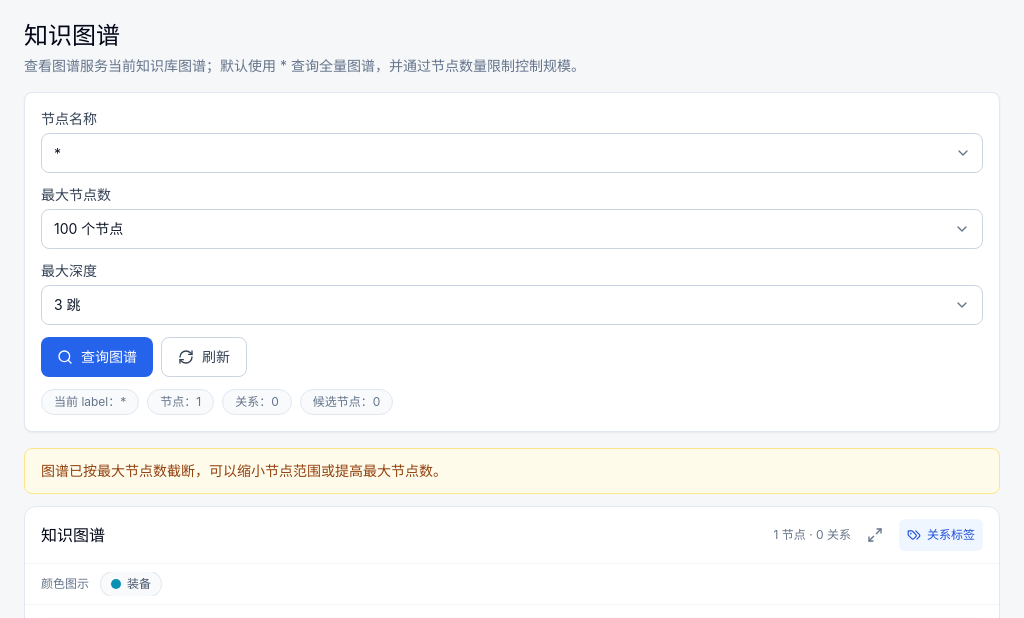
Test: KnowledgeGraphPage › shows searchable node suggestions that can be selected
Replace the text in the dropdown labelled "节点名称" with "09": (512,153) [41, 133, 983, 173]
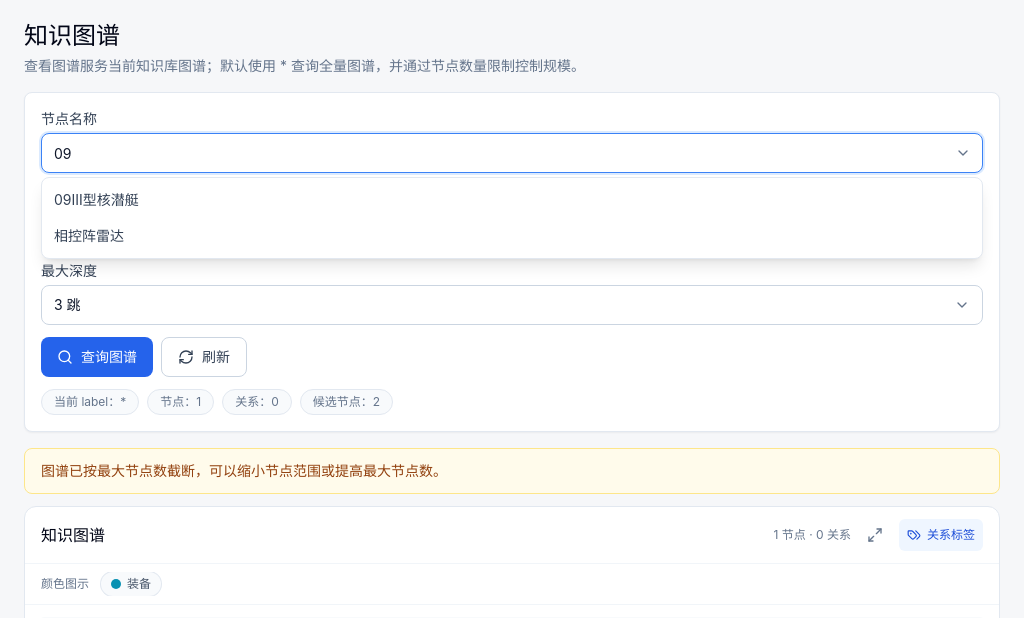
Now the list named "节点候选" is shown, box [42, 182, 982, 254]
Click the option "09III型核潜艇": (96,200) [42, 182, 982, 218]
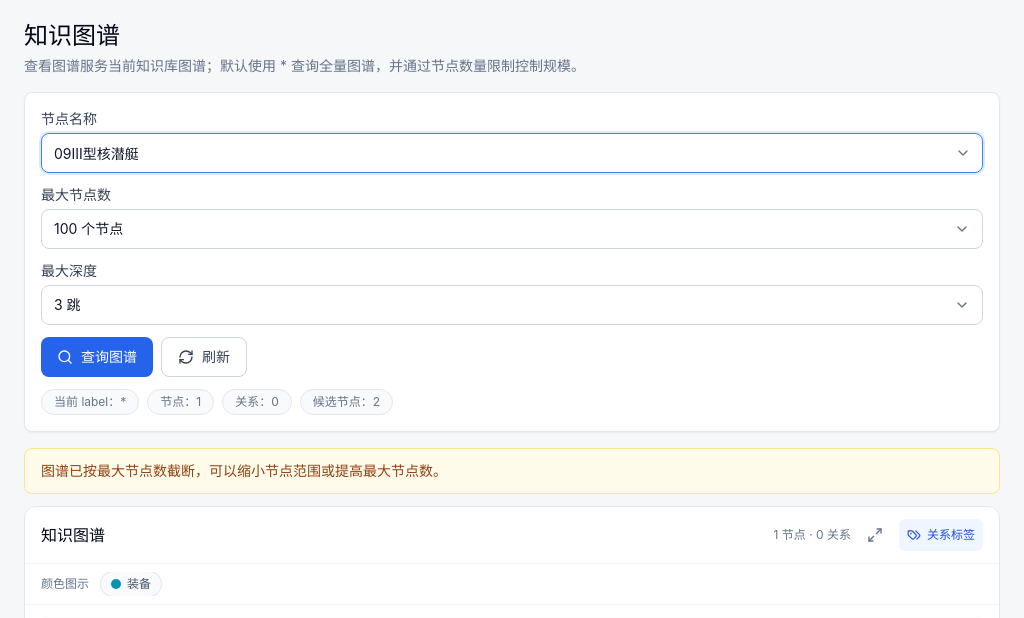
Now the dropdown labelled "节点名称" holds "09III型核潜艇", box [41, 133, 983, 173]
